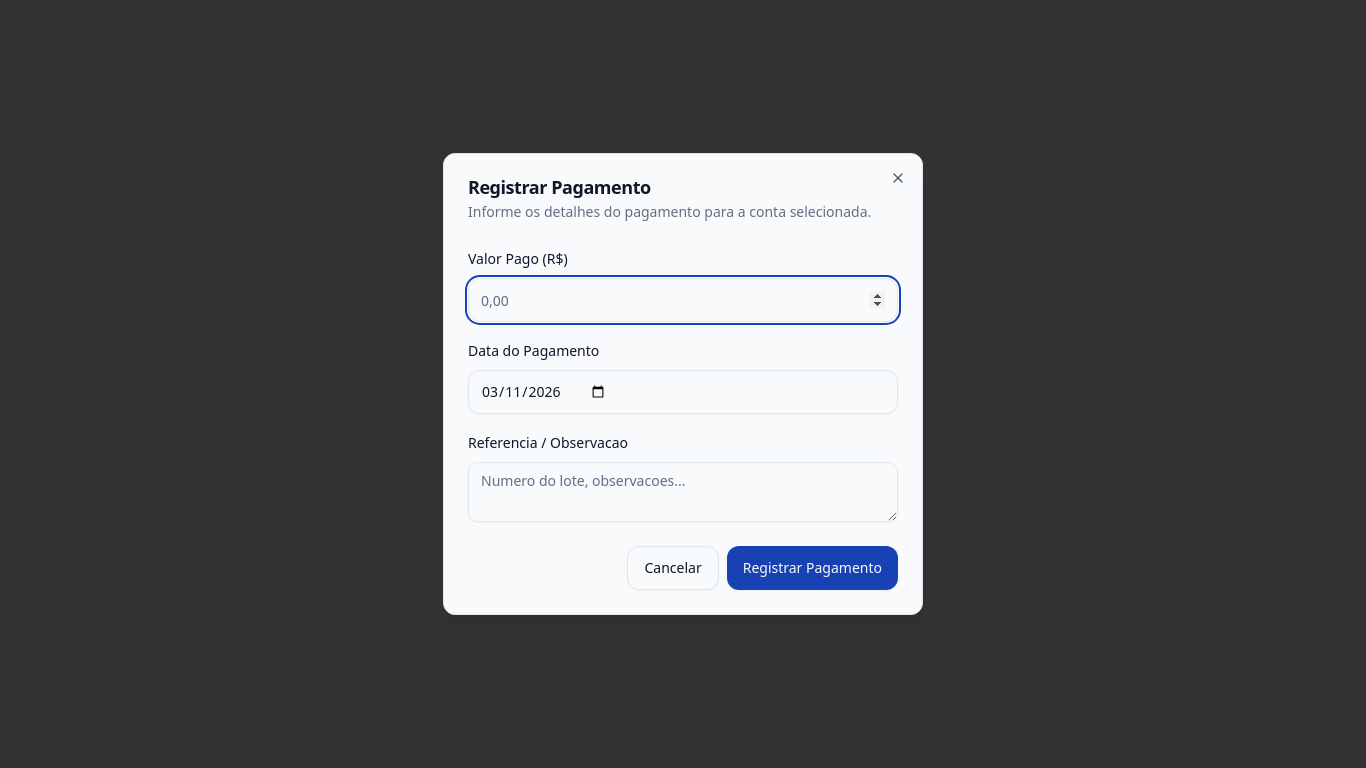
Test case: CreatePaymentModal › validates empty amount
The image size is (1366, 768).
Click the button "Registrar Pagamento": coordinates (812, 568) [727,546,898,590]
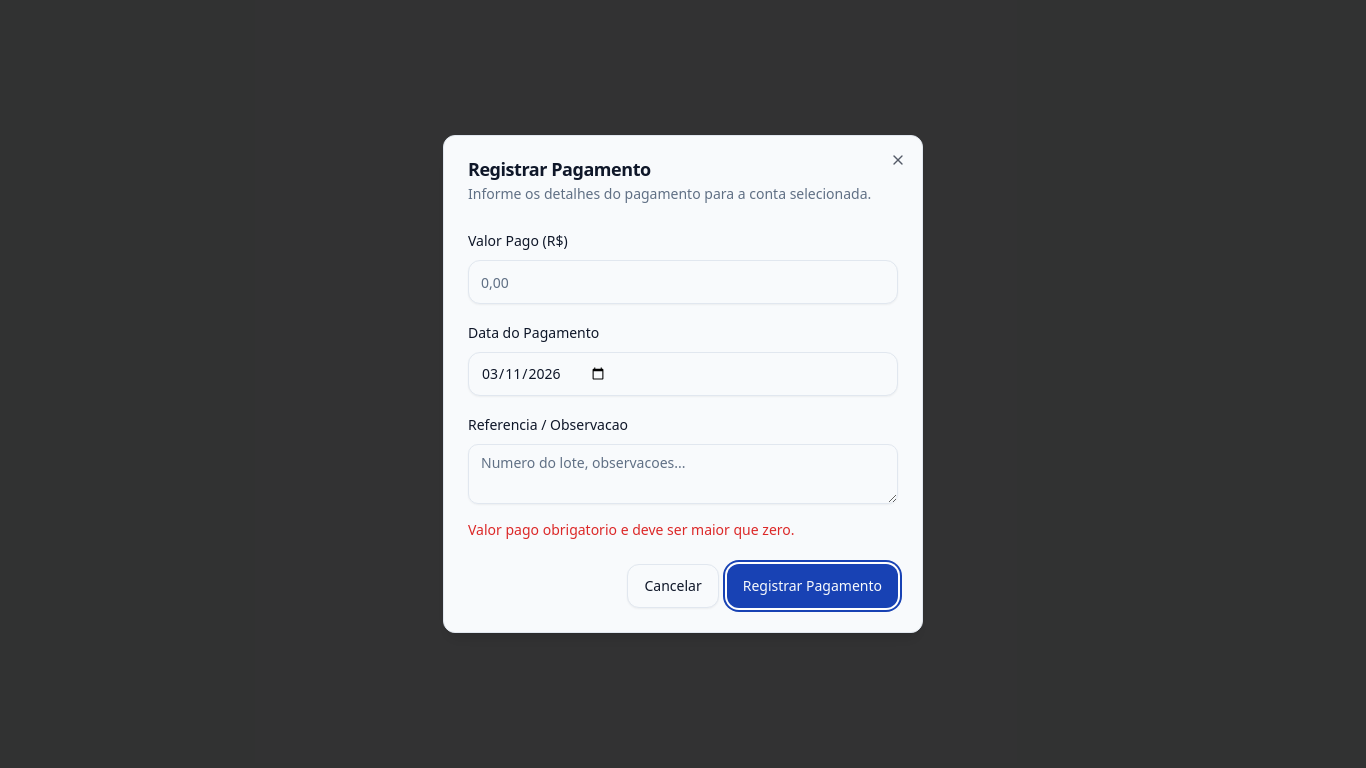
Check: the text "Valor pago obrigatorio e deve ser maior que zero." is shown, box [468,520,794,539]
